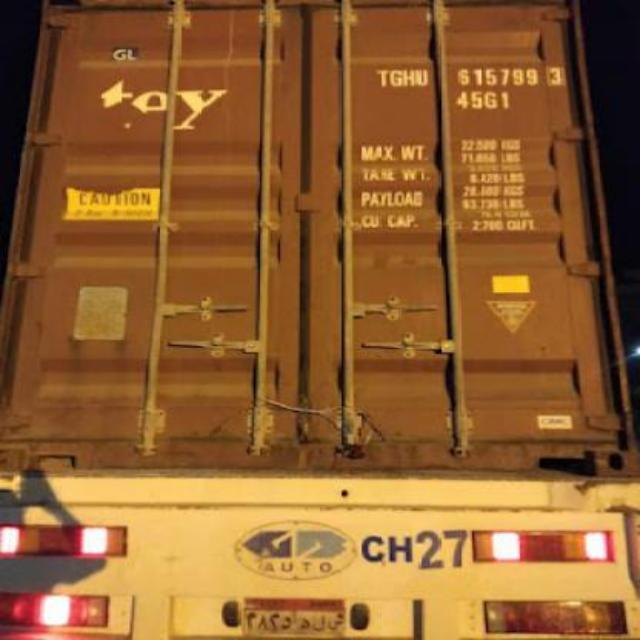1: (468, 63, 484, 87)
3: (544, 62, 562, 88)
5: (484, 64, 496, 86)
6: (456, 63, 469, 87)
7: (496, 62, 512, 88)
9: (524, 63, 540, 93), (512, 64, 524, 90)
G: (390, 66, 402, 88)
H: (402, 66, 414, 88)
T: (372, 66, 390, 88)
U: (416, 64, 429, 90)
